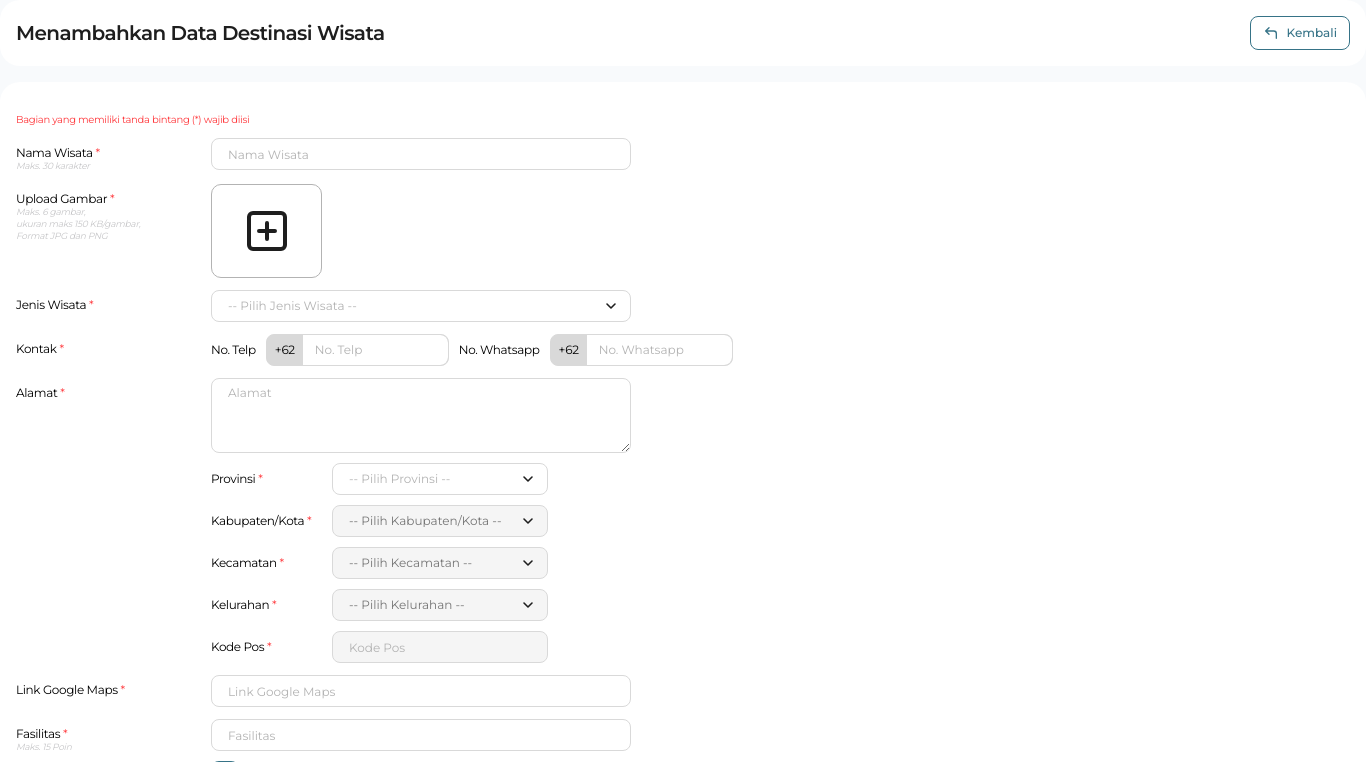
Test: DestinasiWisataCreateView › loads provinces on mount and walks the location chain, auto-filling the postal code
Expected: the dropdown with id "f-kabupaten" is disabled, [332,505,548,537]
Select "DKI Jakarta" in the dropdown with id "f-provinsi" at (440, 479), box [332,463,548,495]
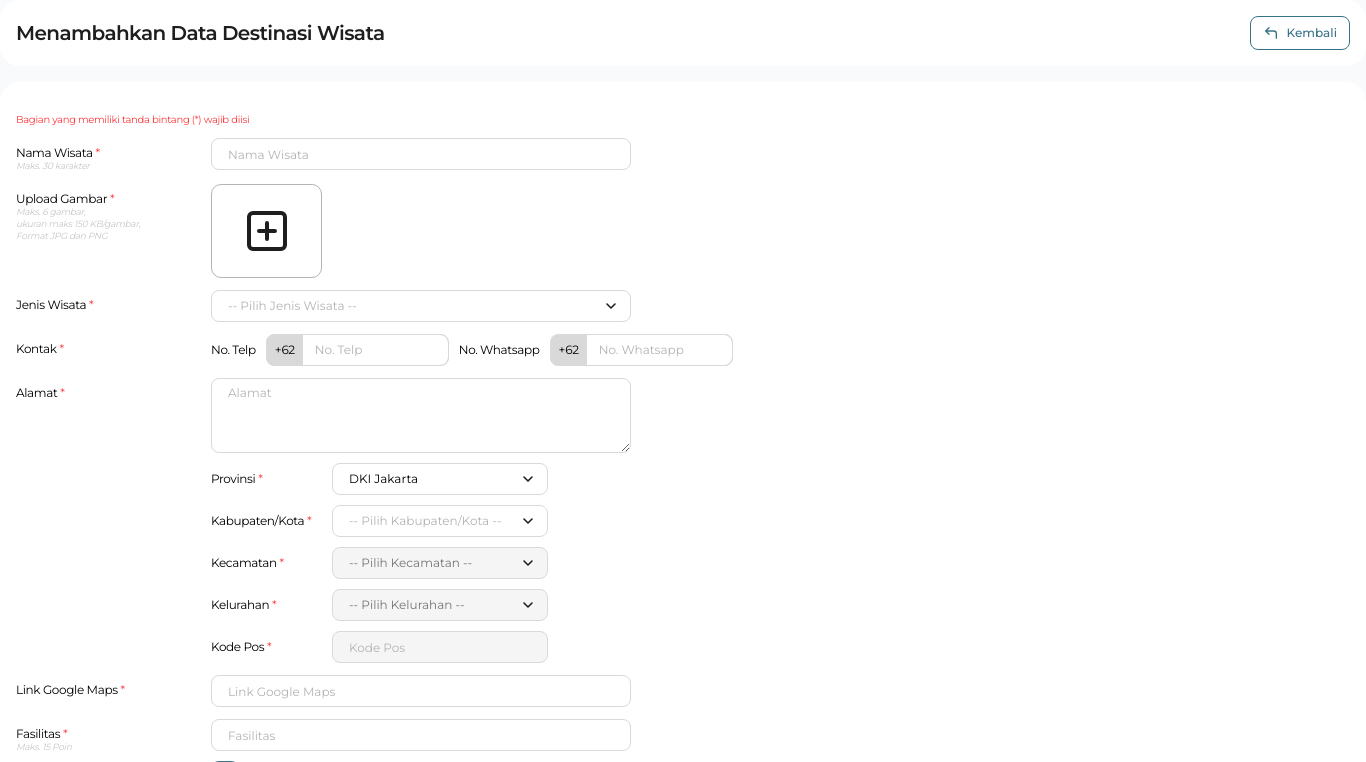
Select "Kabupaten Administrasi Kepulauan Seribu" in the dropdown with id "f-kabupaten" at (440, 521), box [332,505,548,537]
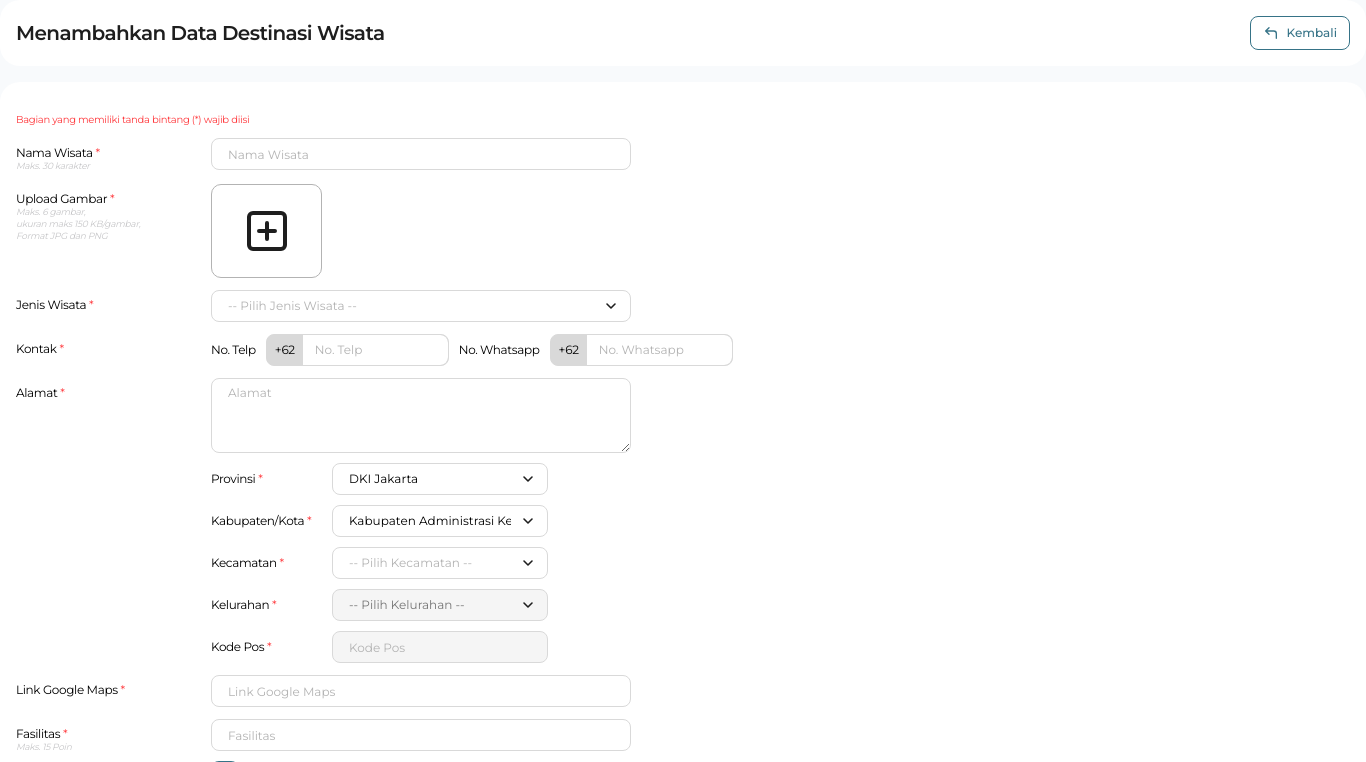
Select "Kepulauan Seribu Utara" in the dropdown with id "f-kecamatan" at (440, 563), box [332,547,548,579]
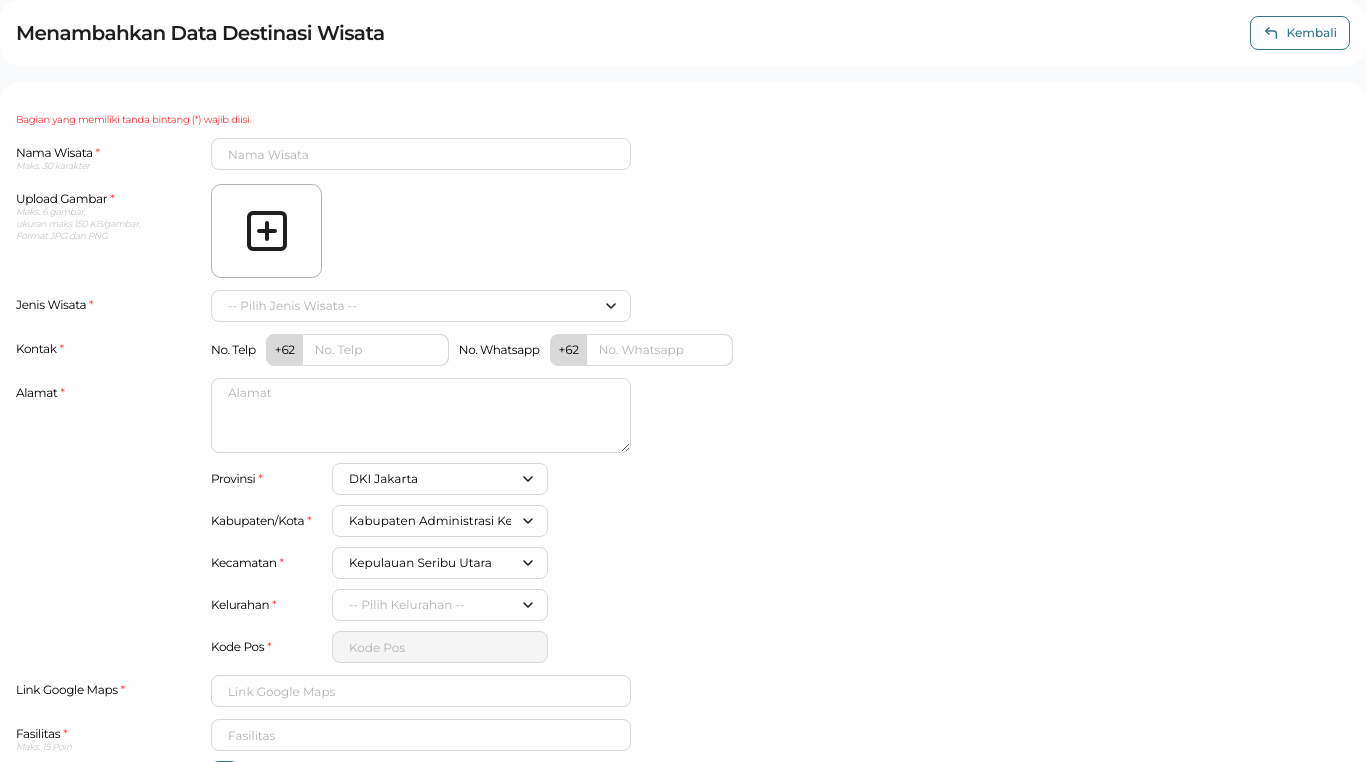
Select "Pulau Panggang" in the dropdown with id "f-kelurahan" at (440, 605), box [332,589,548,621]
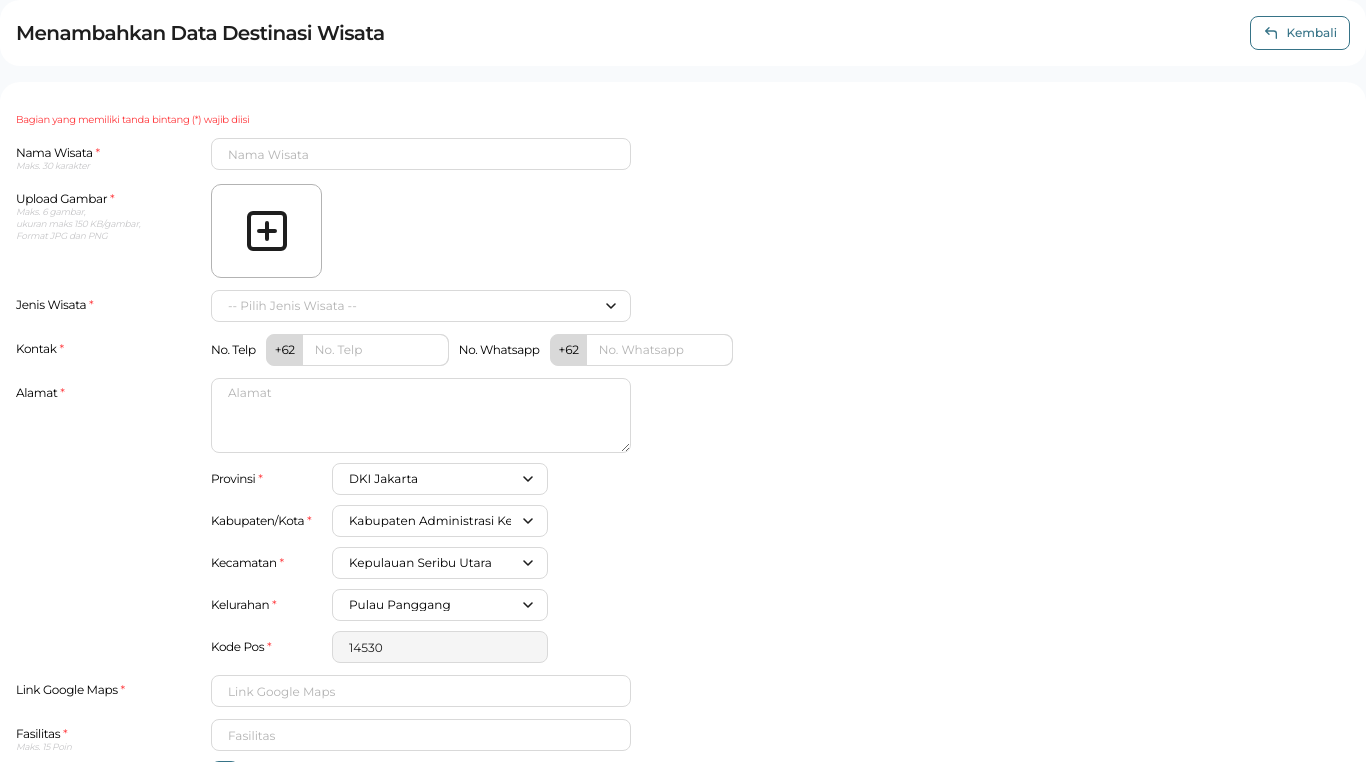
Now the field with id "f-kodepos" holds "14530", box [332,631,548,663]
